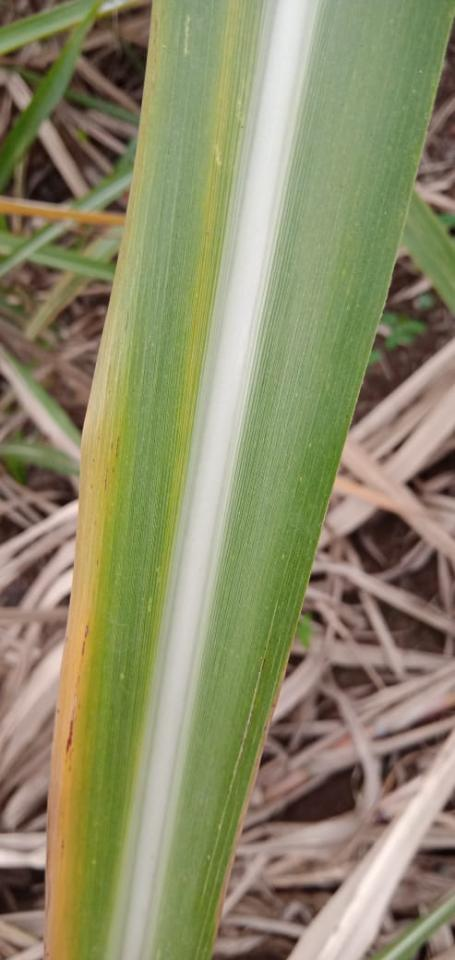Rust: (65, 719, 74, 754), (115, 434, 120, 459), (81, 641, 86, 657), (84, 625, 89, 639), (60, 839, 65, 850), (57, 708, 59, 713)
Yellow: (44, 0, 161, 959), (213, 674, 285, 946)
